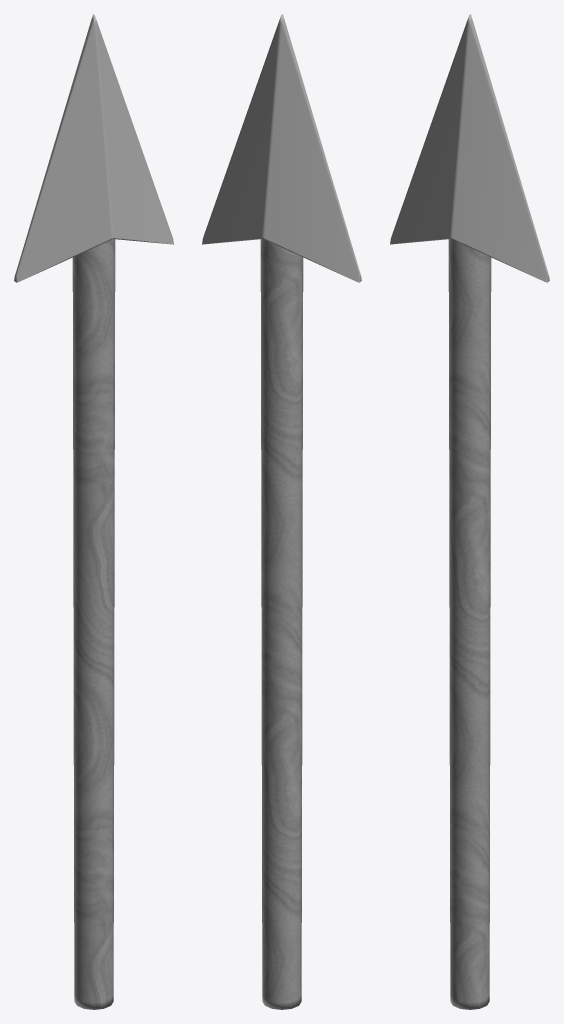
The model's file is Bolt.fbx.
3 views of the same model, side by side, from view 1: azimuth 30°, elevation 25°; view 2: azimuth 150°, elevation 25°; view 3: azimuth 330°, elevation 25° (orthographic).
Visible parts, largest first — view 1: Circle; view 2: Circle; view 3: Circle.
Boxes of the visible parts, x1,y1,x2,y2 form: Circle: (14,14,173,1009); Circle: (202,14,361,1009); Circle: (390,14,549,1009).
Bounding box in the file's own units: 1510 × 9060 × 636.
